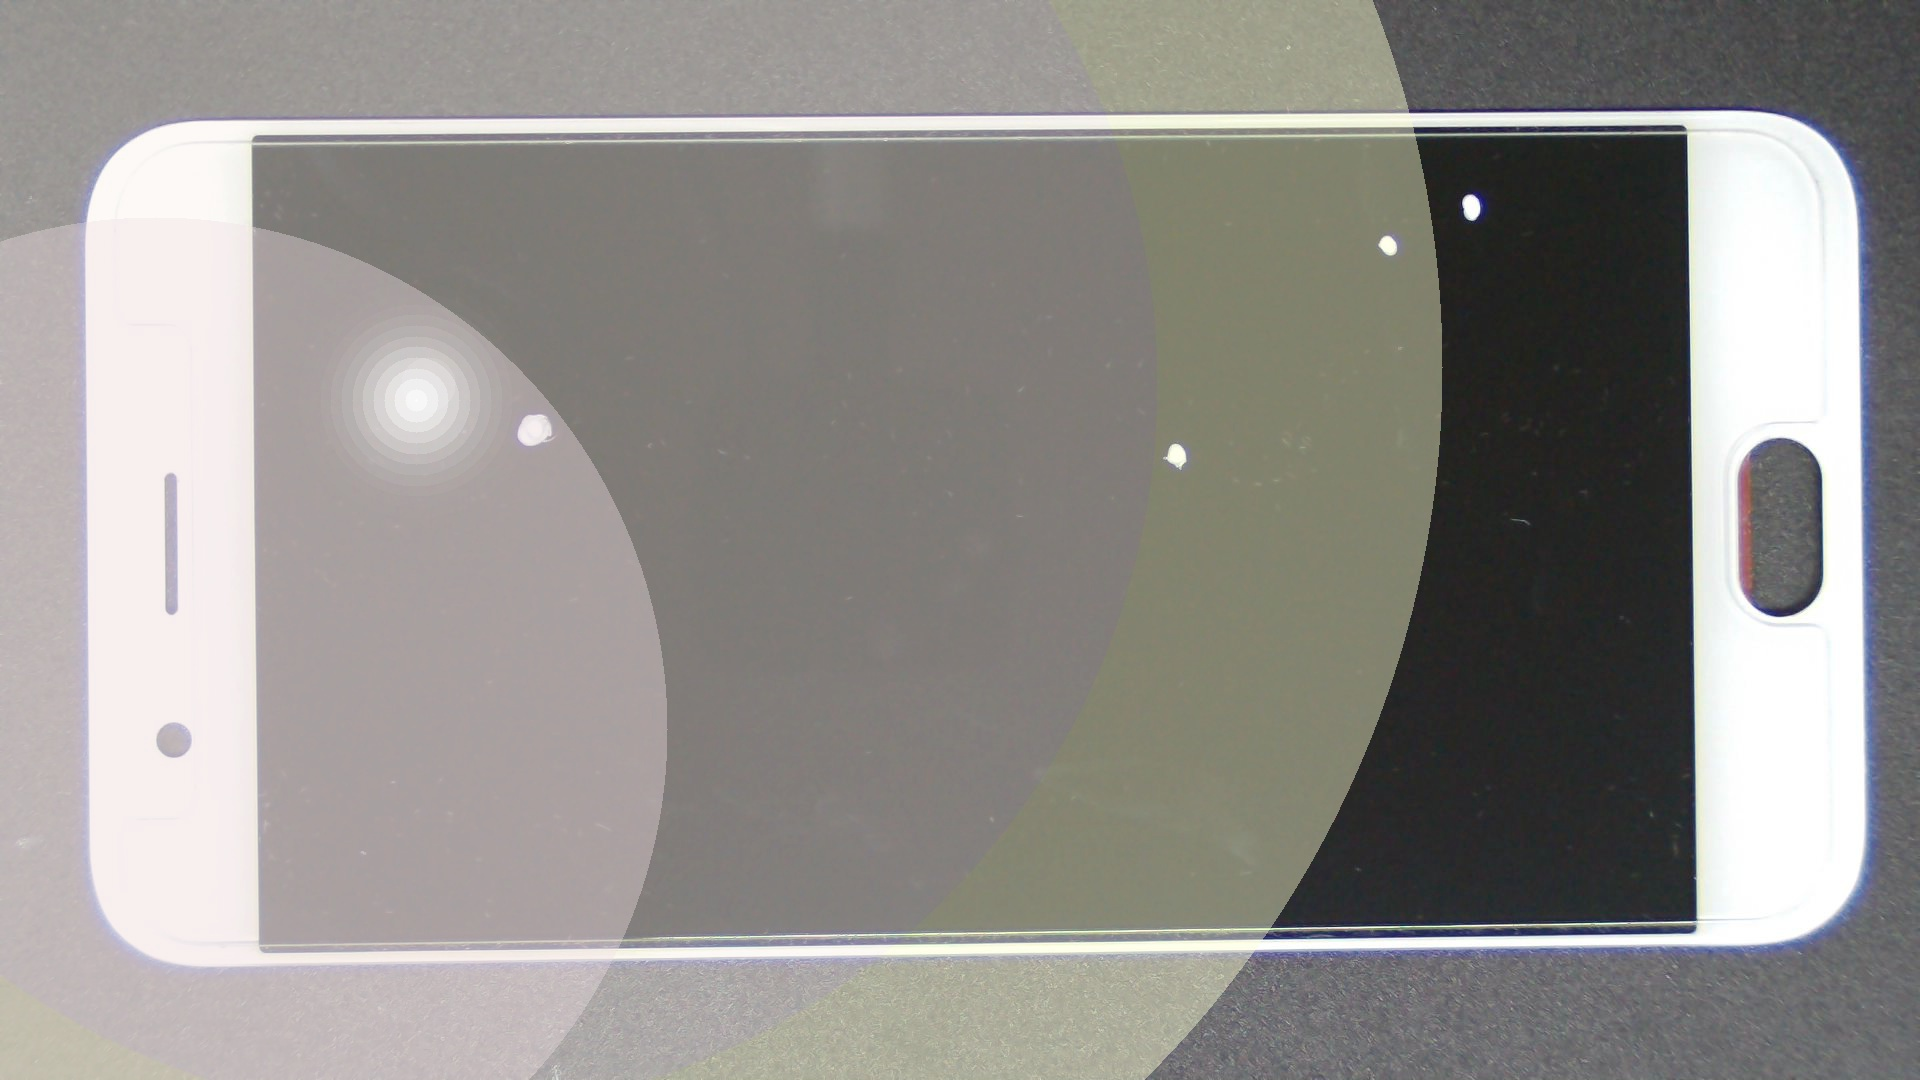oil: (587, 220, 1759, 662), (694, 116, 1920, 351), (736, 95, 1920, 289), (265, 204, 786, 620)
